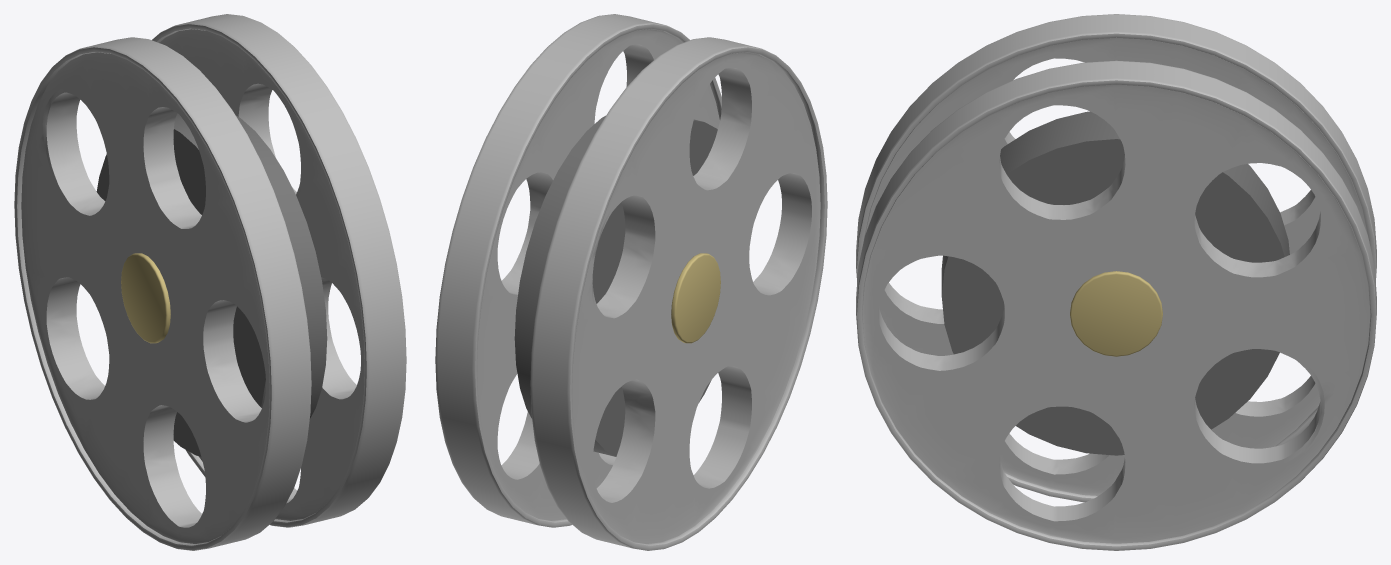
The model's file is roll_mesh.glb.
3 views of the same model, side by side, from view 1: azimuth 30°, elevation 25°; view 2: azimuth 150°, elevation 25°; view 3: azimuth 270°, elevation 25° (orthographic).
Parts seen in each view (by area): view 1: Body, Mitte, Knop; view 2: Body, Mitte, Knop; view 3: Body, Mitte, Knop.
Part boxes in pixels (x1,y1,x2,y2): Body: [14, 14, 406, 550]; Mitte: [96, 113, 327, 456]; Knop: [121, 253, 170, 343]; Body: [435, 14, 827, 550]; Mitte: [514, 115, 717, 456]; Knop: [671, 253, 720, 343]; Body: [856, 14, 1376, 550]; Mitte: [941, 111, 1289, 455]; Knop: [1070, 271, 1162, 356].
Bounding box in the file's own units: 1.35 × 4.47 × 4.47.
